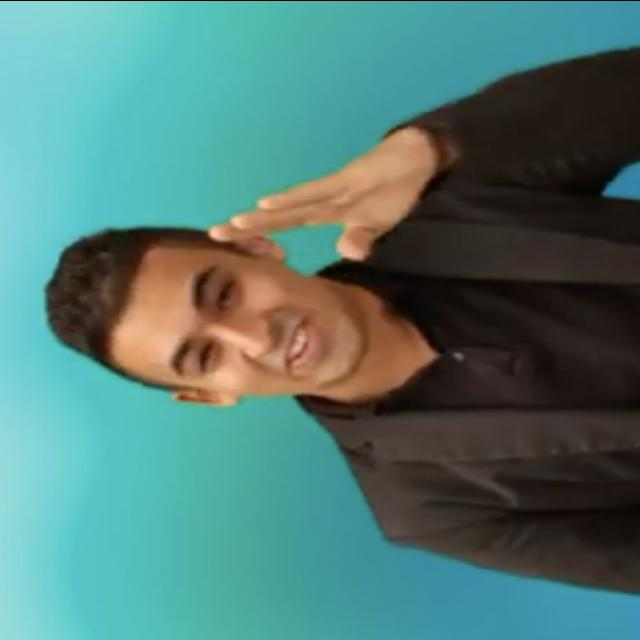hola: (199, 132, 441, 262)
